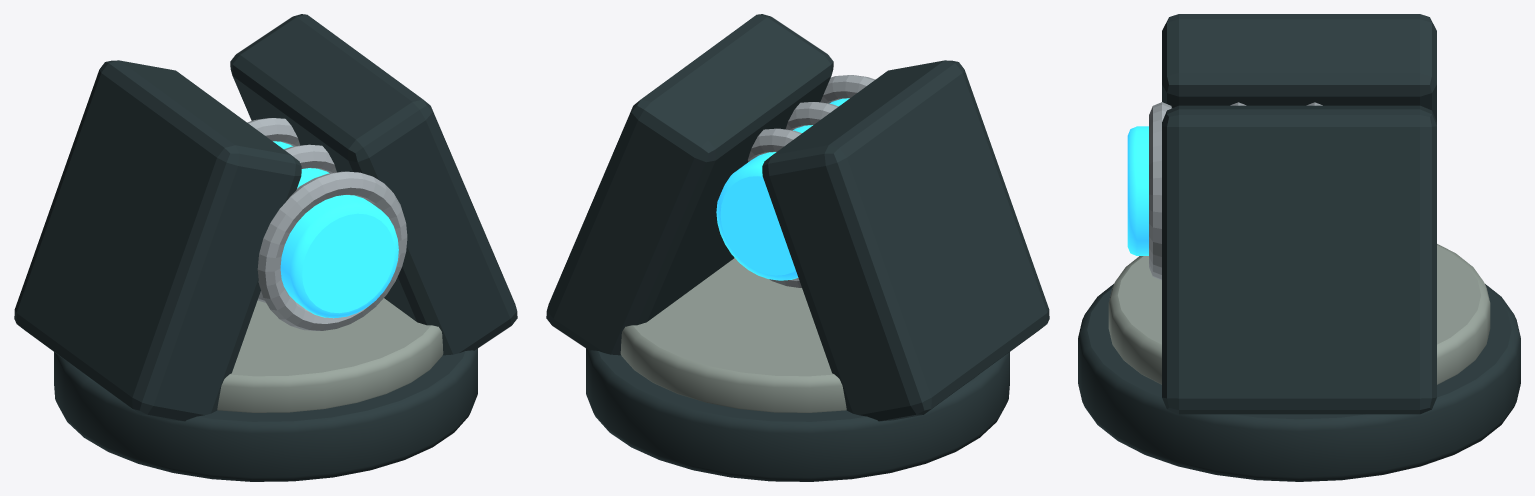
The model's file is battlecity-plasma-item.glb.
3 renders of one model, left to right at view 1: azimuth 30°, elevation 25°; view 2: azimuth 150°, elevation 25°; view 3: azimuth 270°, elevation 25°, orthographic. The views are drawn at different scales.
Visible parts, largest first — view 1: DX dark machinery, Brushed steel, Research reactor glow, DX chrome; view 2: DX dark machinery, Brushed steel, Research reactor glow, DX chrome; view 3: DX dark machinery, Brushed steel, Research reactor glow, DX chrome.
Boxes of the visible parts, <box> form: DX dark machinery: <box>14,14,517,481</box>; Brushed steel: <box>217,298,443,412</box>; Research reactor glow: <box>273,141,398,318</box>; DX chrome: <box>247,118,407,330</box>; DX dark machinery: <box>546,14,1049,481</box>; Brushed steel: <box>620,258,846,412</box>; Research reactor glow: <box>716,98,849,280</box>; DX chrome: <box>748,75,875,287</box>; DX dark machinery: <box>1078,14,1520,481</box>; Brushed steel: <box>1108,244,1490,384</box>; Research reactor glow: <box>1127,126,1148,255</box>; DX chrome: <box>1149,102,1322,280</box>.
Bounding box in the file's own units: 0.6032 × 0.4734 × 0.58.
